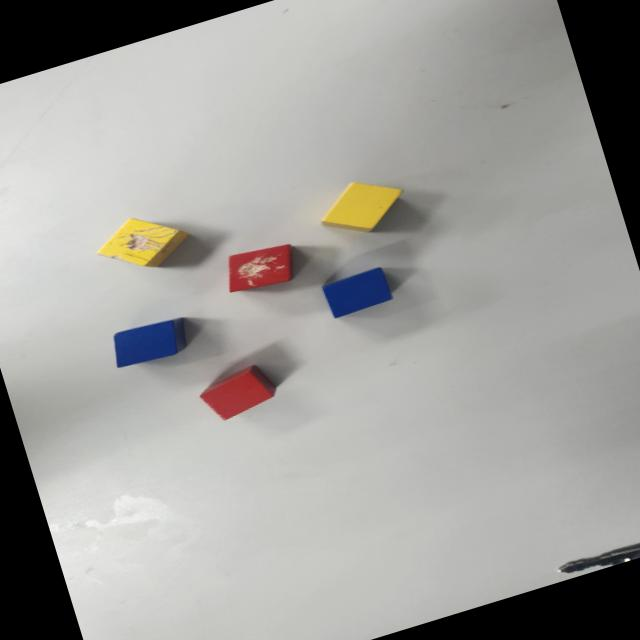blue: (106, 312, 190, 372), (320, 266, 394, 320)
broken: (88, 202, 196, 284), (218, 236, 302, 299)
red: (194, 360, 281, 425)
yellow: (314, 168, 414, 245)
